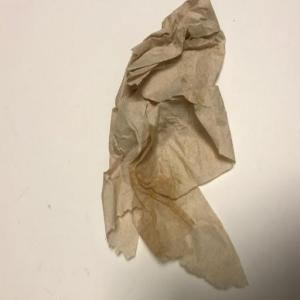Trash: (101, 2, 257, 291)
